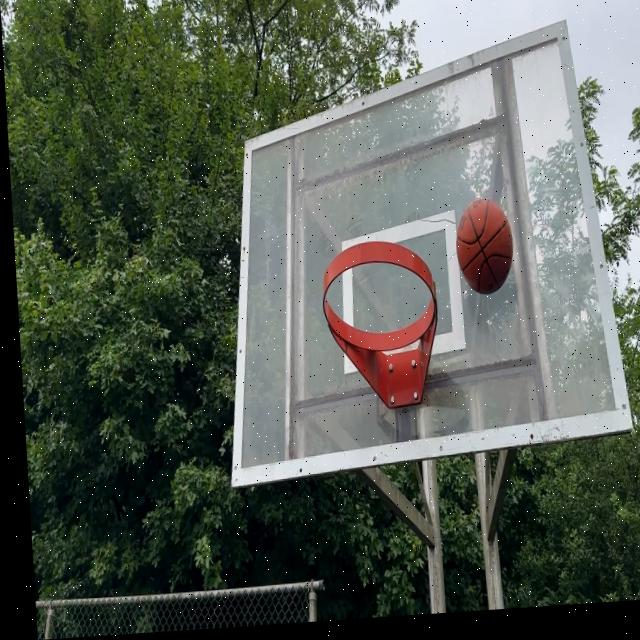Basketball: (454, 198, 516, 297)
